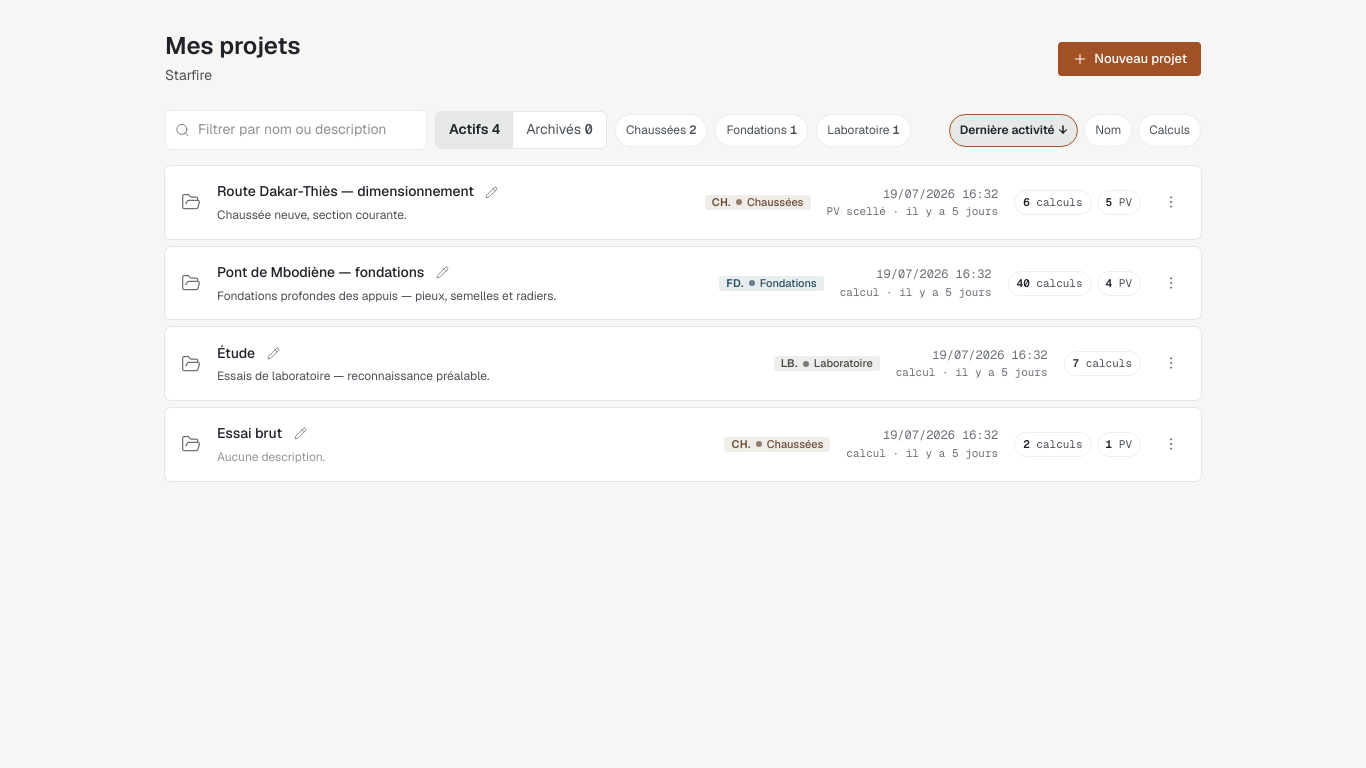
Liste des projets — colonne Contenu, description, menu d’actions › #5 GIVEN un menu ouvert — WHEN on clique à l’extérieur — THEN le menu se ferme
Click the button named "Actions sur le projet Route Dakar-Thiès — dimensionnement" at (1171,202), box [1157,188,1185,216]
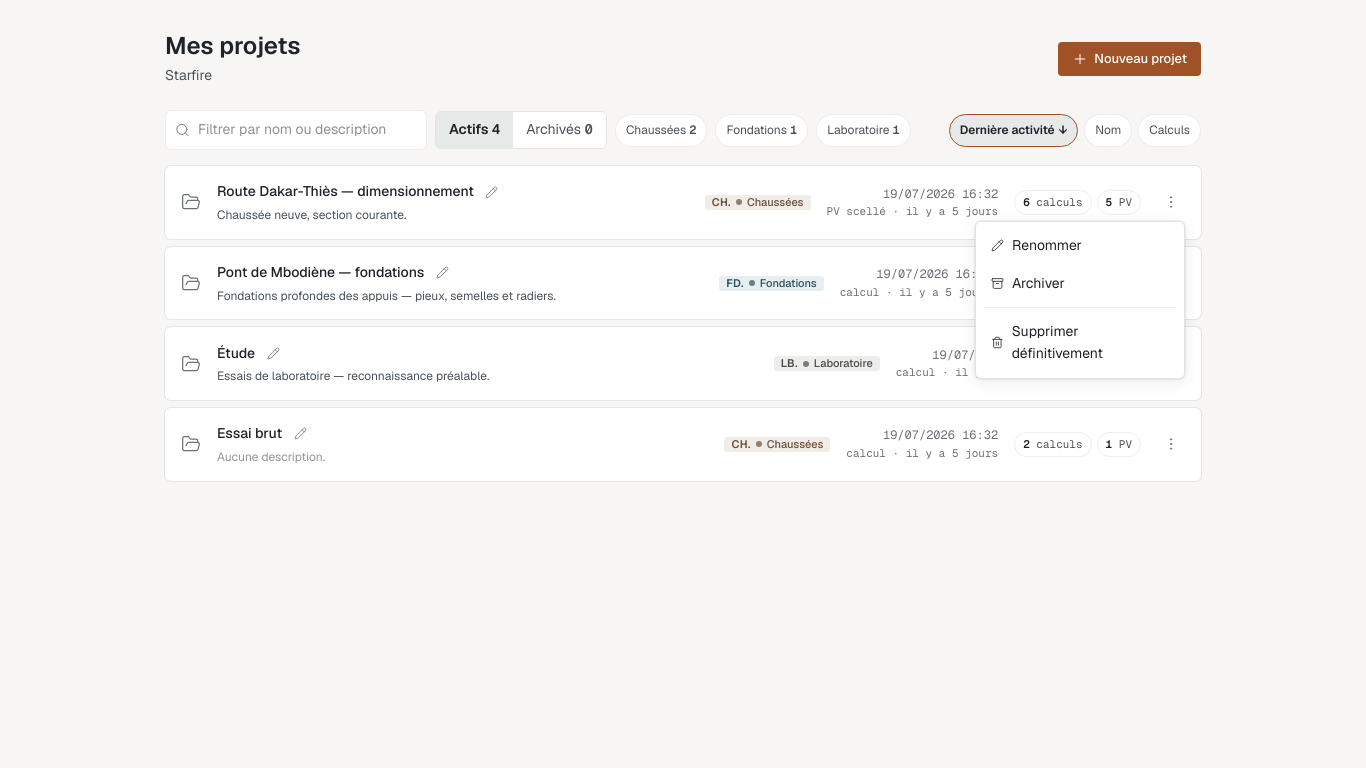
Expected: the menu is shown, [975,221,1185,379]
Press the mouse on the element that starts with "Mes projets" at (683,384), box [0,0,1365,767]
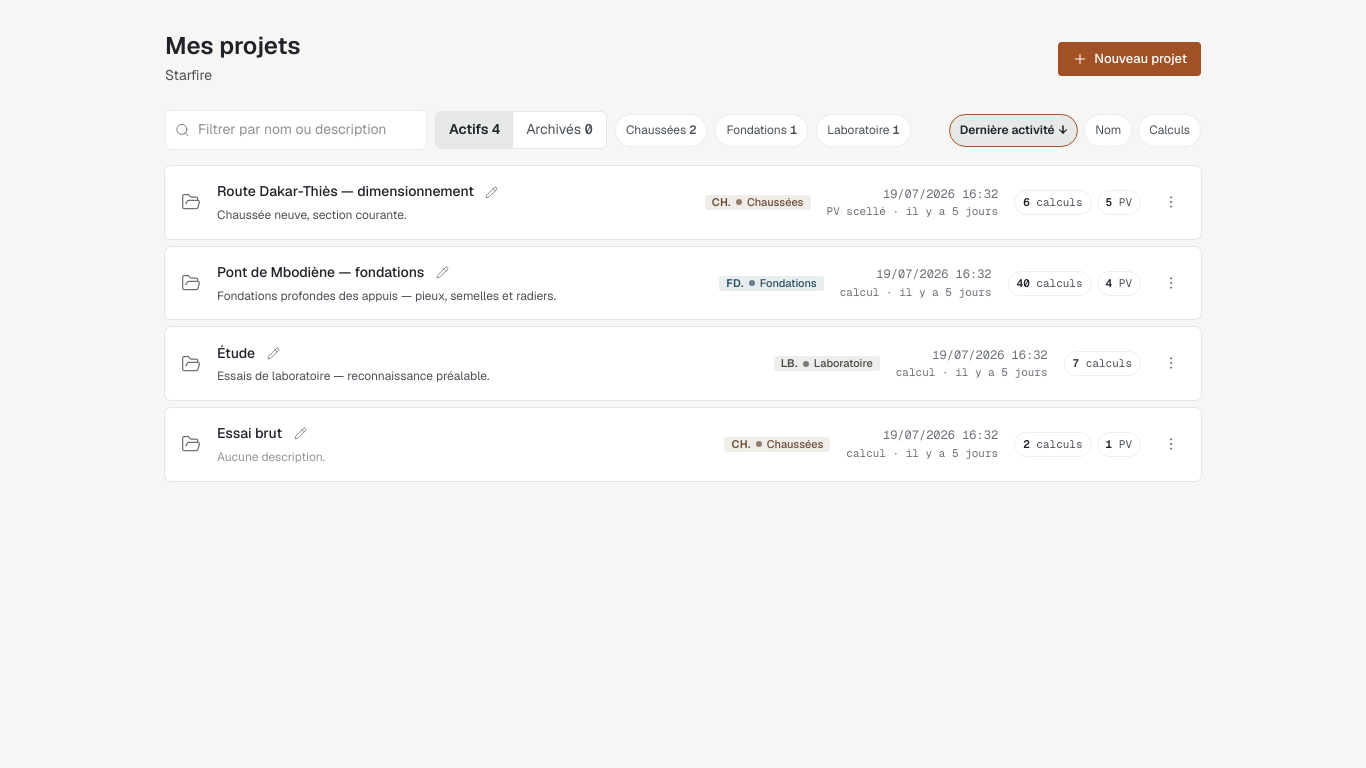
Expected: the menu is gone
